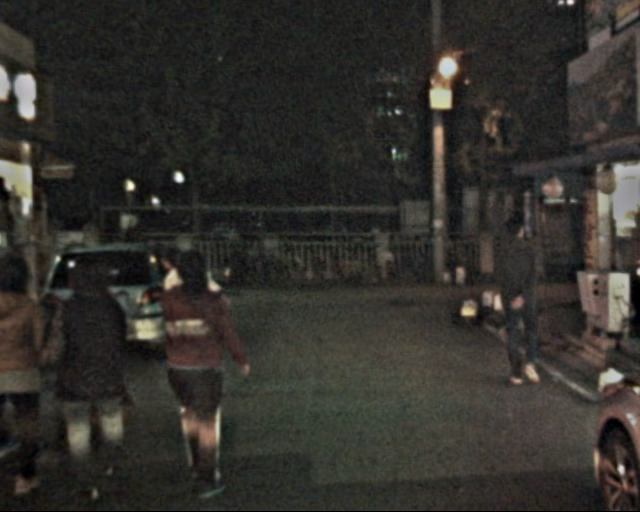person: (50, 239, 145, 490), (140, 245, 234, 496), (1, 251, 53, 505), (485, 210, 550, 395), (164, 237, 224, 405)
